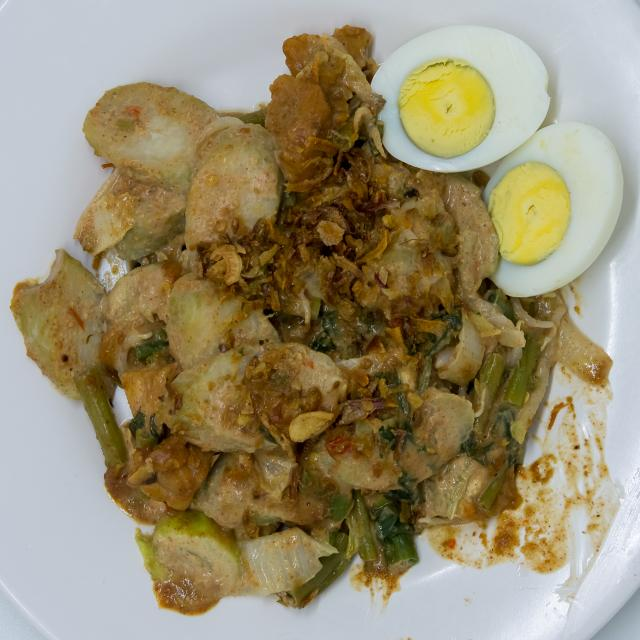Gado-Gado: (14, 12, 626, 620)
